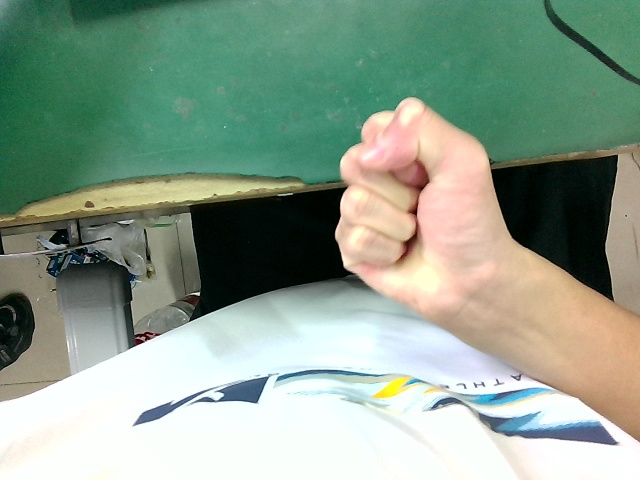stone: (325, 87, 512, 322)
